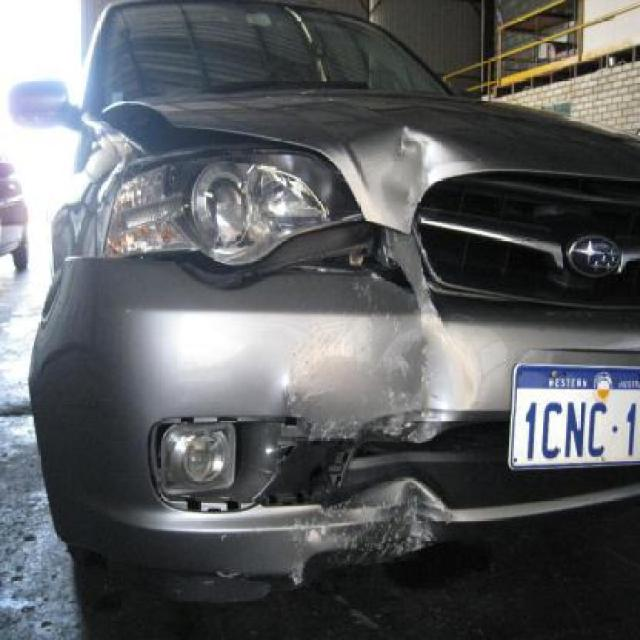License-Plates: (507, 362, 640, 472)
